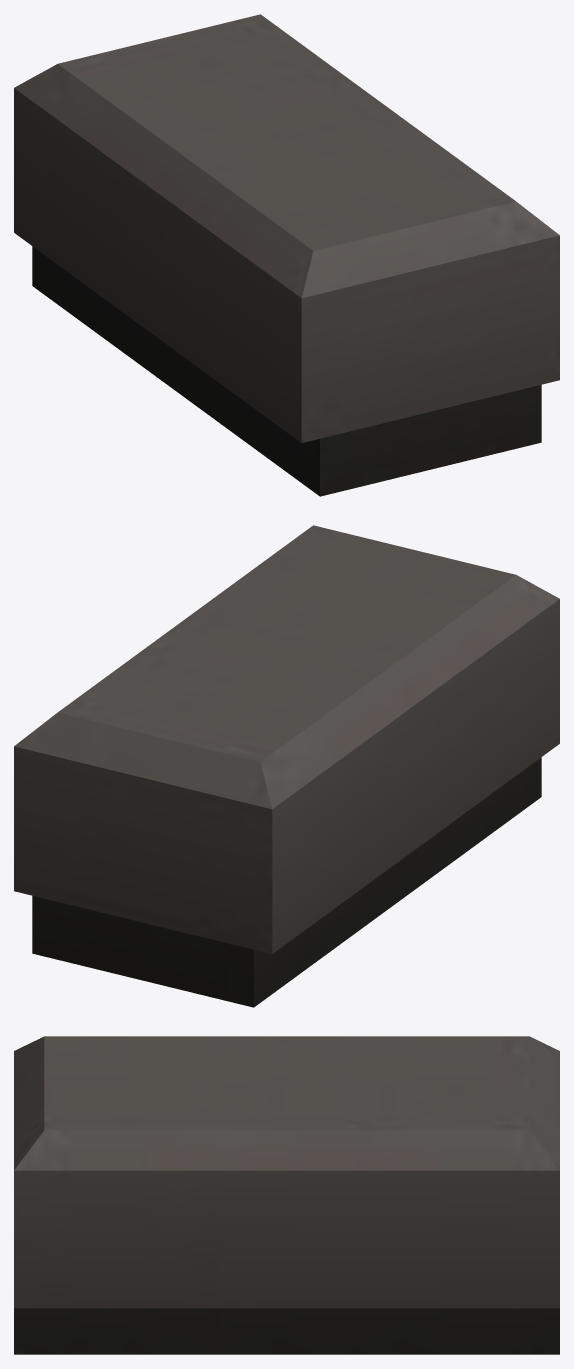
File: fluid-wagon.glb
The picture shows the model from 3 angles, top to bottom: view 1: azimuth 30°, elevation 25°; view 2: azimuth 150°, elevation 25°; view 3: azimuth 270°, elevation 25°; orthographic projection. The views are drawn at different scales.
Visible parts, largest first — view 1: fluid-wagon; view 2: fluid-wagon; view 3: fluid-wagon.
Boxes of the visible parts, x1,y1,x2,y2 form: fluid-wagon: (14, 14, 559, 496); fluid-wagon: (14, 525, 559, 1007); fluid-wagon: (14, 1036, 559, 1354).
Bounding box in the file's own units: 0.14 × 0.12 × 0.27.
Materials: 1 (1 with a texture image).
